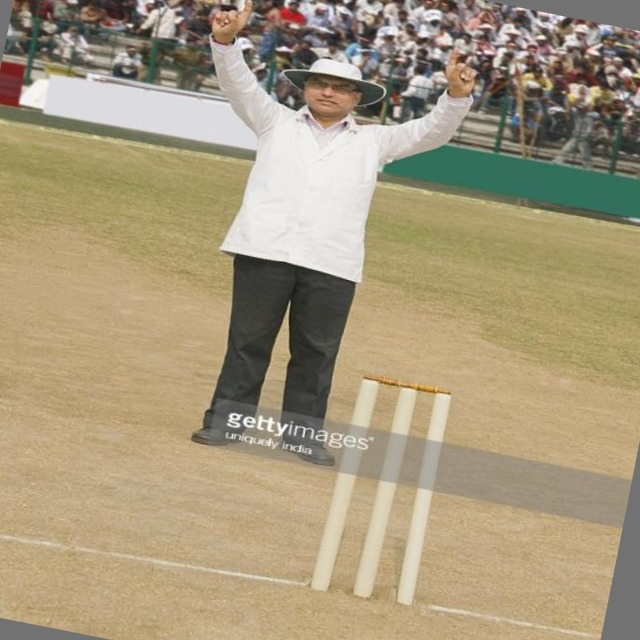Six: (112, 0, 505, 488)
